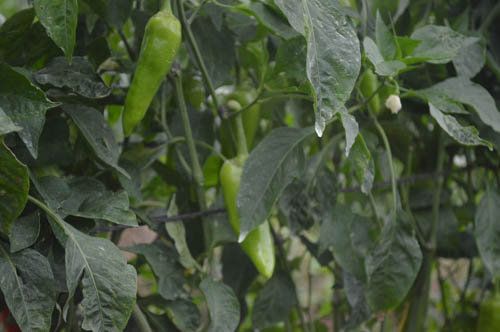ChiliPepper: (118, 12, 182, 137), (215, 161, 274, 273)
